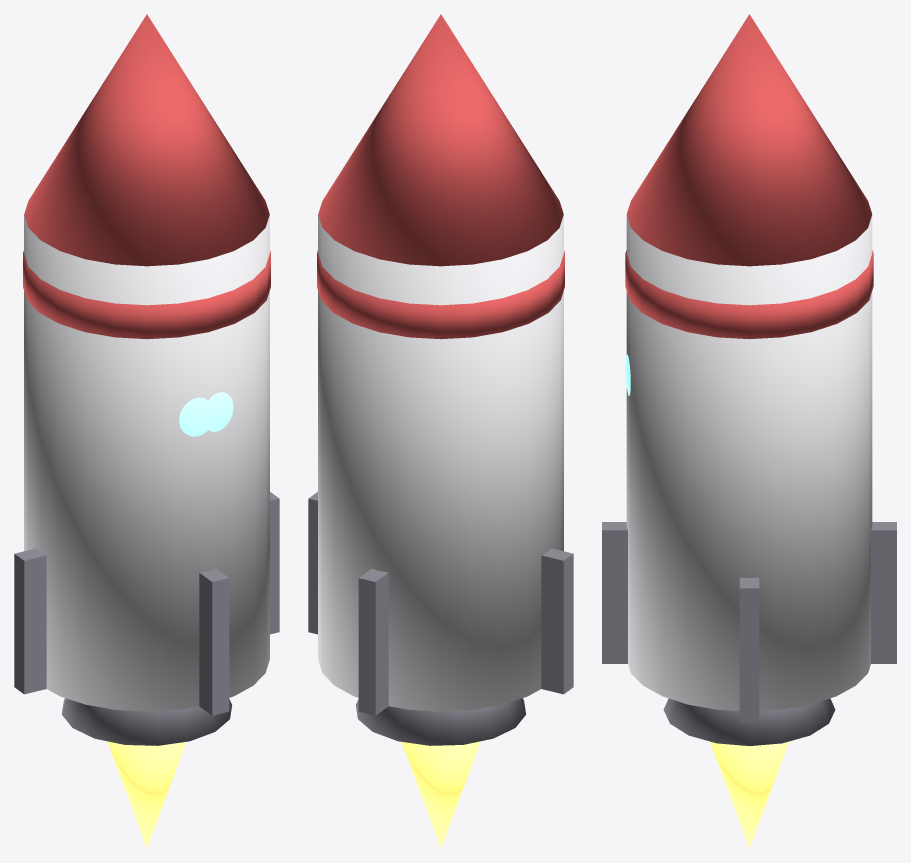
File: rocket.glb
3 views of the same model, side by side, from view 1: azimuth 30°, elevation 25°; view 2: azimuth 150°, elevation 25°; view 3: azimuth 270°, elevation 25° (orthographic).
Visible parts, largest first — view 1: Body, Nose, Stripe, Nozzle, Fin_2, Fin_3, Flame, Window, Fin_0; view 2: Body, Nose, Stripe, Nozzle, Fin_2, Fin_1, Flame, Fin_0; view 3: Body, Nose, Stripe, Nozzle, Flame, Fin_1, Fin_3, Fin_0.
Boxes of the visible parts, x1,y1,x2,y2 form: Body: [24, 214, 269, 711]; Nose: [24, 14, 269, 266]; Stripe: [23, 250, 270, 339]; Nozzle: [61, 698, 232, 745]; Fin_2: [14, 548, 46, 694]; Fin_3: [199, 568, 229, 715]; Flame: [107, 741, 186, 848]; Window: [179, 392, 233, 436]; Fin_0: [270, 492, 279, 634]; Body: [318, 214, 563, 711]; Nose: [318, 14, 563, 266]; Stripe: [317, 250, 564, 339]; Nozzle: [355, 698, 526, 745]; Fin_2: [541, 548, 573, 694]; Fin_1: [358, 568, 388, 715]; Flame: [401, 741, 480, 848]; Fin_0: [308, 492, 317, 634]; Body: [626, 215, 872, 710]; Nose: [626, 14, 872, 266]; Stripe: [625, 250, 873, 339]; Nozzle: [663, 698, 835, 745]; Flame: [710, 741, 788, 848]; Fin_1: [871, 522, 896, 663]; Fin_3: [602, 522, 627, 663]; Fin_0: [739, 577, 759, 721].
Size of the model in its own units: 1.2 by 3.75 by 1.2.
